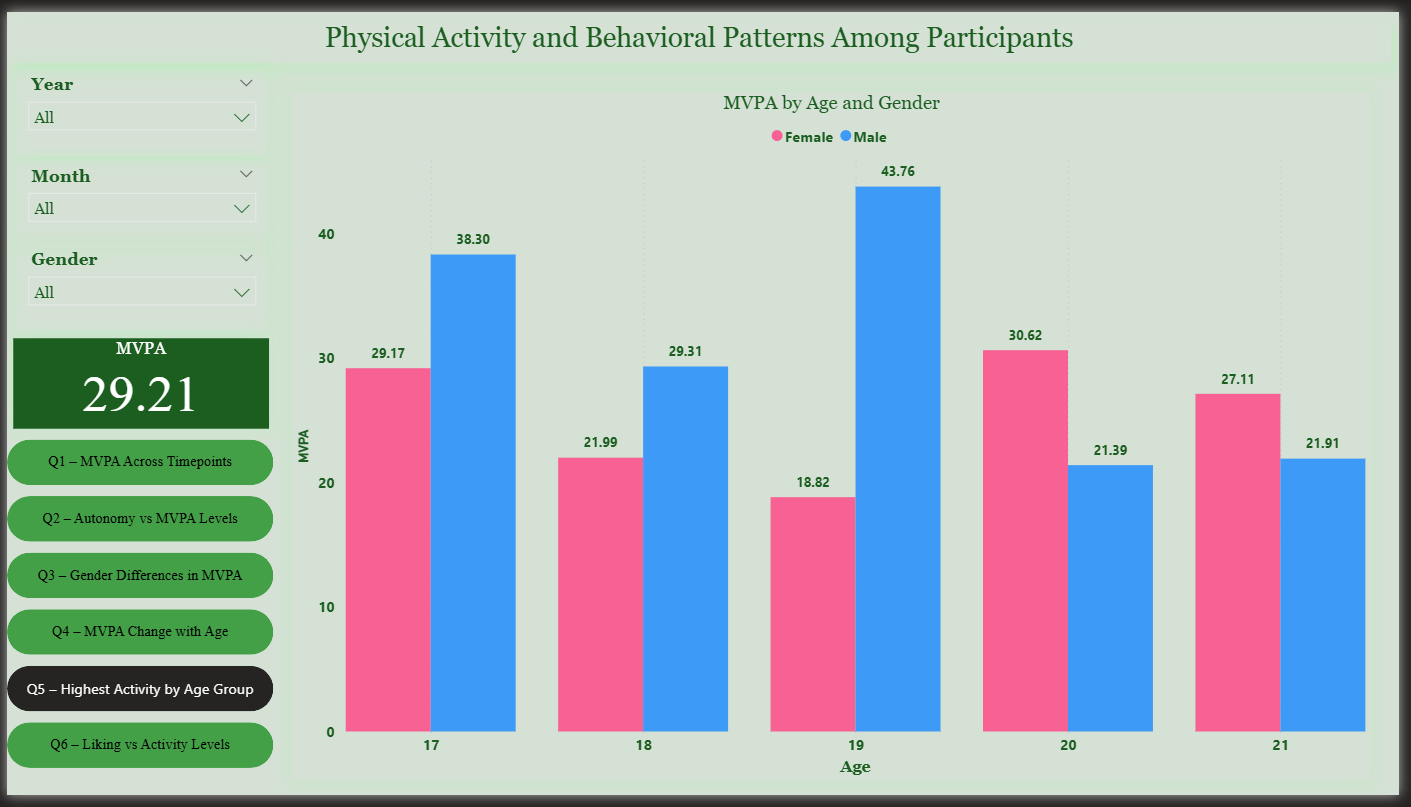

This screenshot's page, from the dashboard's own definition file:
{"tool":"powerbi","page":{"name":"Q5 – Highest Activity by Age Group","canvas":[1280,720],"ordinal":4},"visuals":[{"type":"textbox","title":"Physical Activity and Behavioral Patterns Among Participants","box":[0,9.7,1272.8,37.4],"z":0},{"type":"slicer","fields":{"Values":["ActivityData_Clean.File_Date.Variation.Date Hierarchy.Year"]},"box":[8.7,53.1,229.8,78.9],"z":0,"group":"g1"},{"type":"clusteredColumnChart","fields":{"Category":["Demographics_Clean.Age"],"Y":["Avg(ActivityData_Clean.MVPA)"],"Series":["Demographics_Clean.Gender"]},"box":[262.3,74,992.2,633.8],"z":1000},{"type":"slicer","fields":{"Values":["ActivityData_Clean.File_Date.Variation.Date Hierarchy.Month"]},"box":[8.7,136.8,229.8,78.9],"z":1000,"group":"g1"},{"type":"group","id":"g1","title":"Group 1","box":[0,53.1,245.5,648.2],"z":2000},{"type":"slicer","fields":{"Values":["ActivityData_Clean.Gender"]},"box":[9.1,214.3,229.9,79.2],"z":2000,"group":"g1"},{"type":"kpi","title":"MVPA","fields":{"Indicator":["Avg(ActivityData_Clean.MVPA)"],"TrendLine":["LikingData_Clean.Week"]},"box":[6,299.9,235.1,83.1],"z":5000,"group":"g1"},{"type":"pageNavigator","box":[0,393.5,245.5,307.8],"z":6001,"group":"g1"}]}

Visuals, with their boxes in screenshot pixels (x1, y1, x2, y2), scaled from the page's 1280x720 canvas onto the 1411x807 screenshot:
"Physical Activity and Behavioral Patterns Among Participants" textbox: <region>0, 11, 1403, 53</region>
slicer - ActivityData_Clean.File_Date.Variation.Date Hierarchy.Year: <region>10, 60, 263, 148</region>
clusteredColumnChart - Demographics_Clean.Age x Avg(ActivityData_Clean.MVPA): <region>289, 83, 1383, 793</region>
slicer - ActivityData_Clean.File_Date.Variation.Date Hierarchy.Month: <region>10, 153, 263, 242</region>
"Group 1" group: <region>0, 60, 271, 786</region>
slicer - ActivityData_Clean.Gender: <region>10, 240, 263, 329</region>
"MVPA" kpi: <region>7, 336, 266, 429</region>
pageNavigator: <region>0, 441, 271, 786</region>
